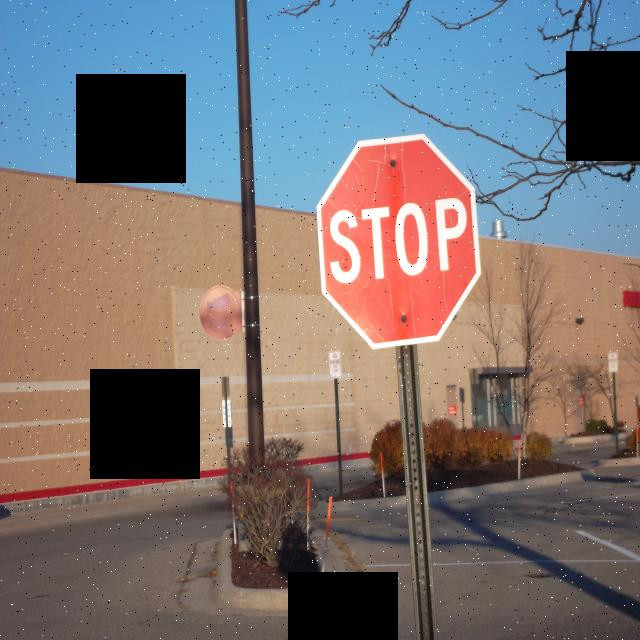stop: (318, 131, 481, 352)
